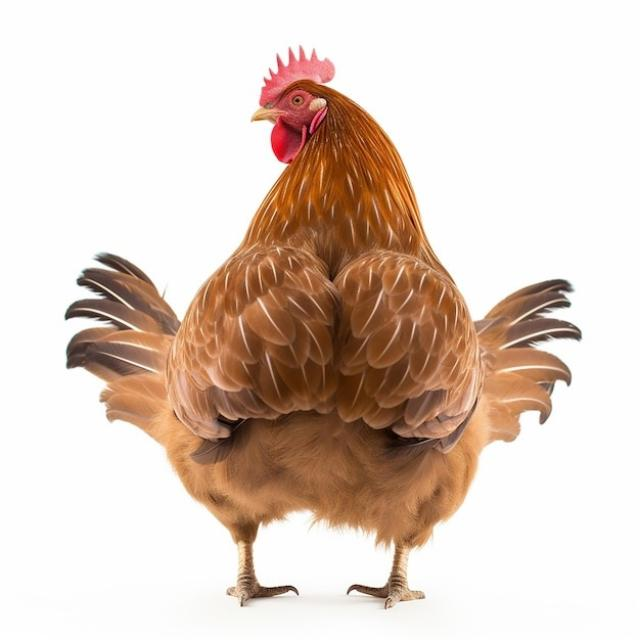Chicken: (65, 45, 583, 609)
